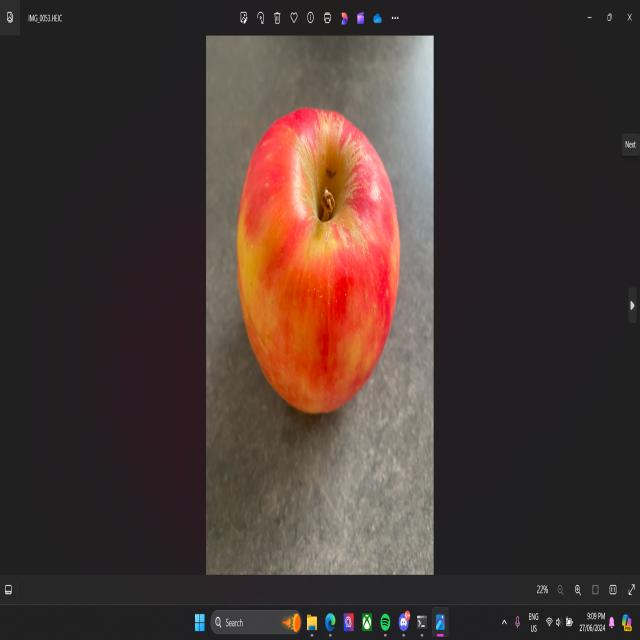Apple: (238, 109, 400, 413)
